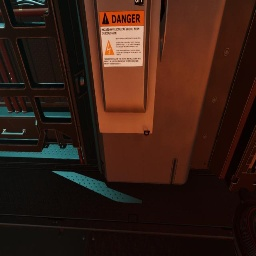SafetySwitchPanel ,: (84, 0, 168, 136)
